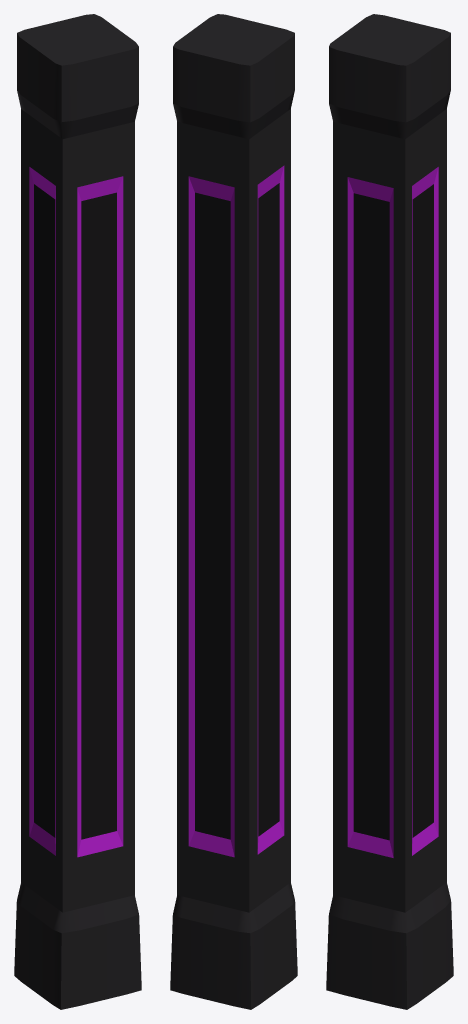
The model's file is Wall_Beam_Square.fbx.
3 renders of one model, left to right at view 1: azimuth 30°, elevation 25°; view 2: azimuth 150°, elevation 25°; view 3: azimuth 330°, elevation 25°, orthographic.
Visible parts, largest first — view 1: Wall_Beam_Square; view 2: Wall_Beam_Square; view 3: Wall_Beam_Square.
Boxes of the visible parts, x1,y1,x2,y2 form: Wall_Beam_Square: (14,14,141,1009); Wall_Beam_Square: (170,14,297,1009); Wall_Beam_Square: (326,14,453,1009).
Bounding box in the file's own units: 46 × 500 × 46.
